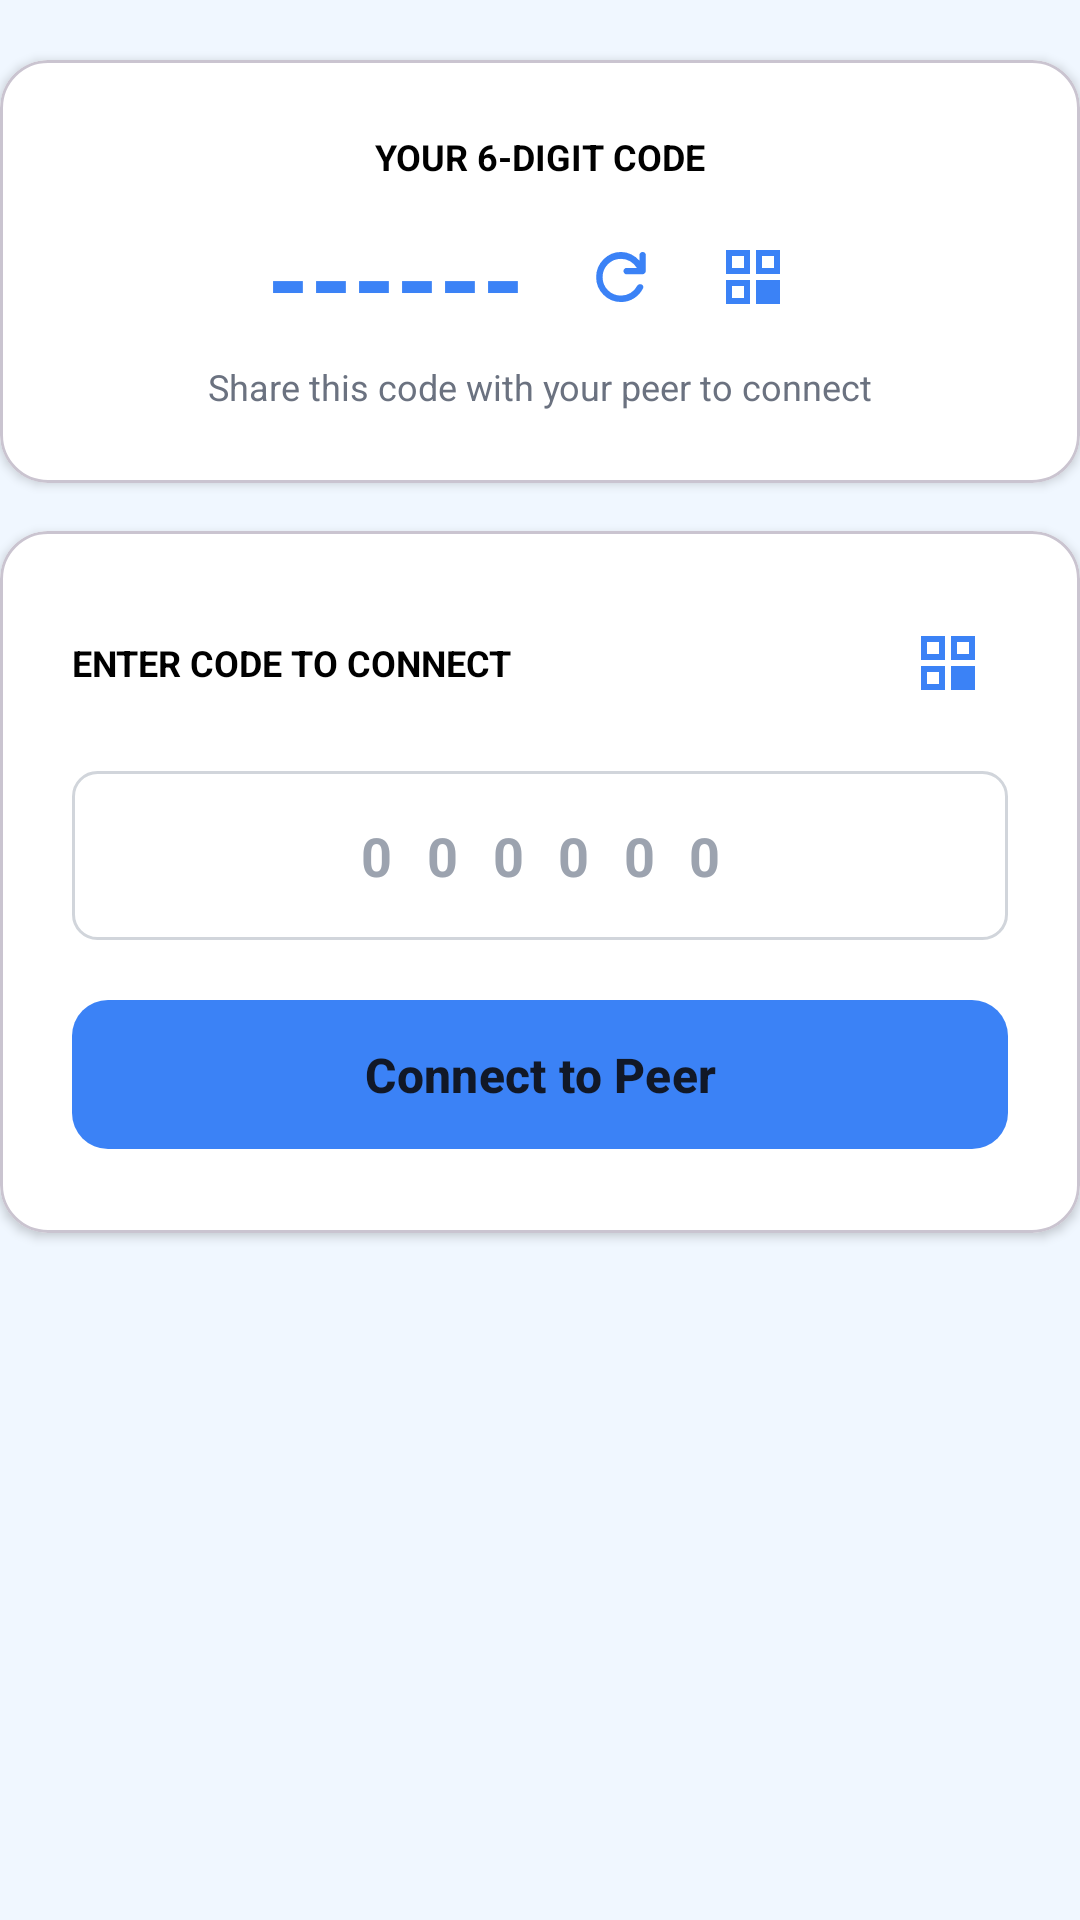

Icon bounding boxes for this 1080 x 1920 phone screenshot, format (x1, y1, x2, y2):
qr code: (921, 636, 975, 690)
refresh: (596, 252, 646, 302)
Show QR: (726, 250, 780, 304)
